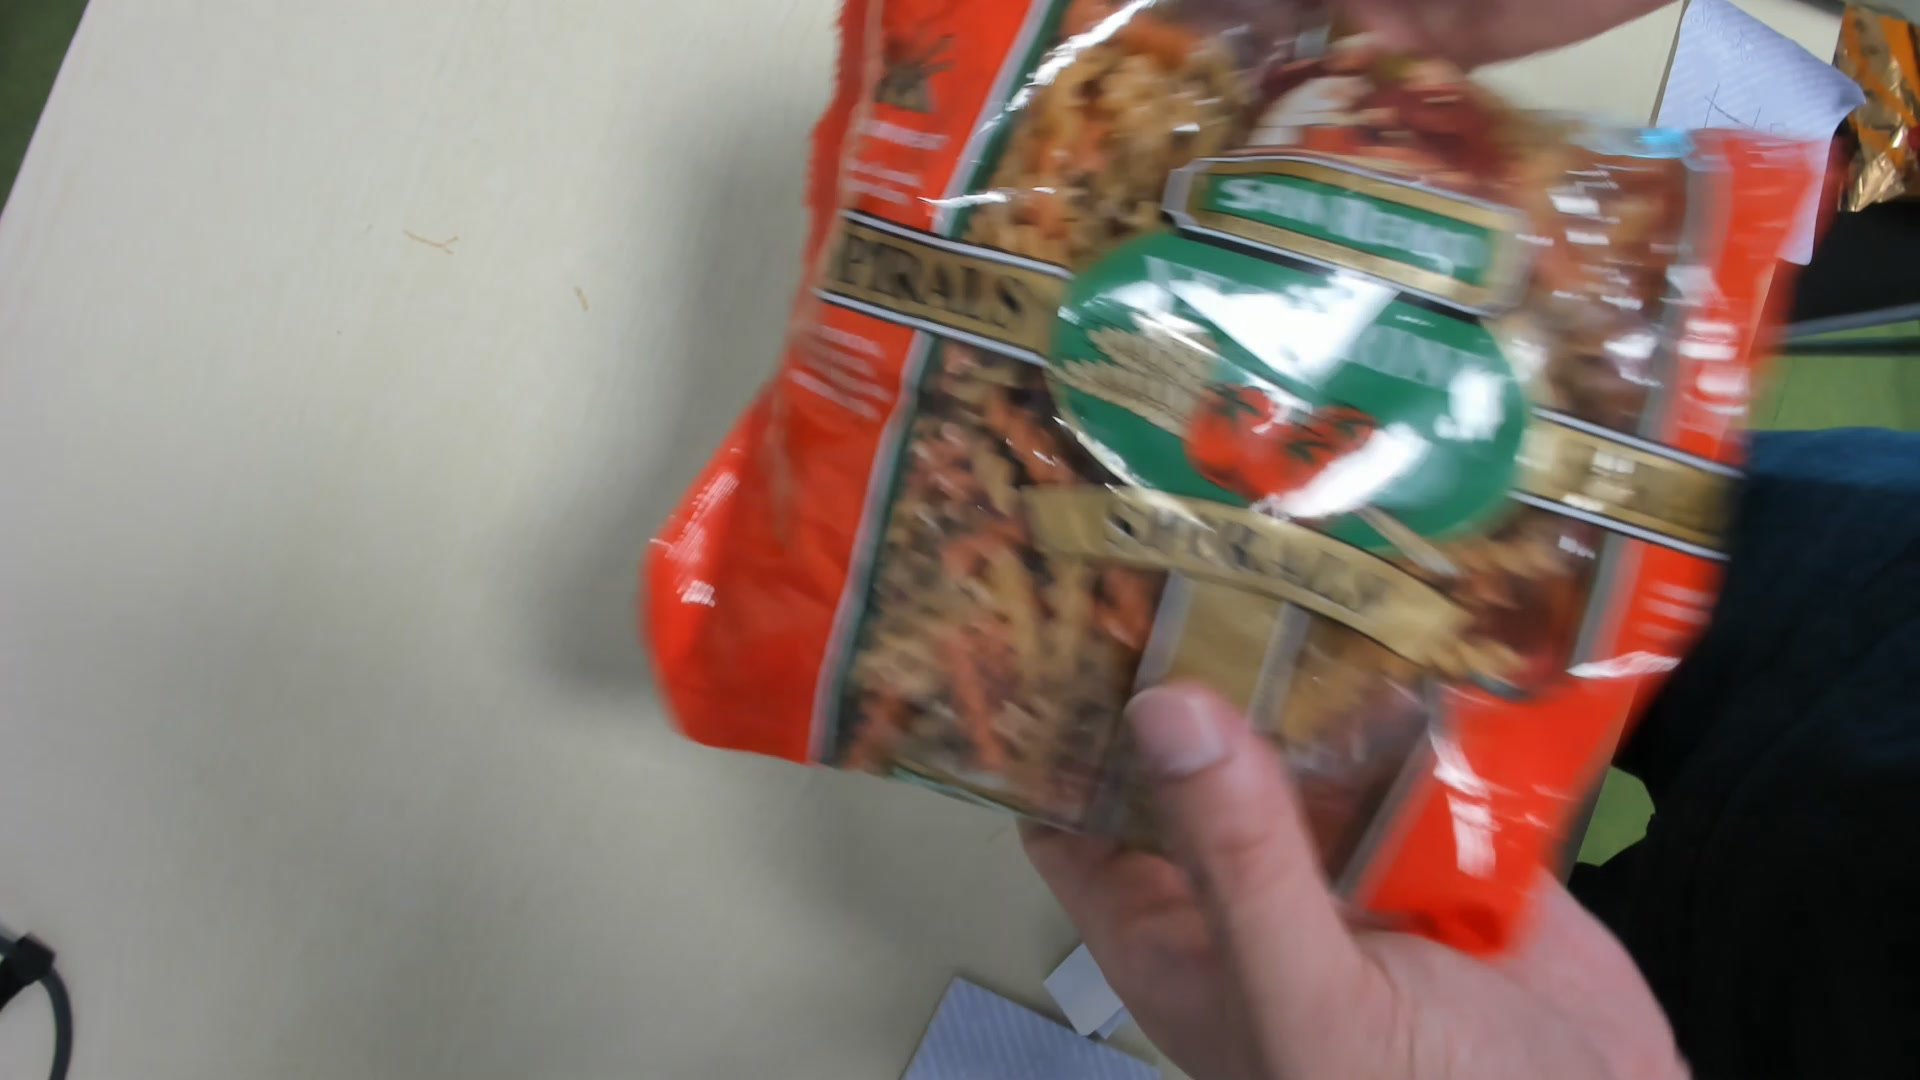Pasta_400-499g_Halal_NonHealthy: (626, 1, 1821, 961)
